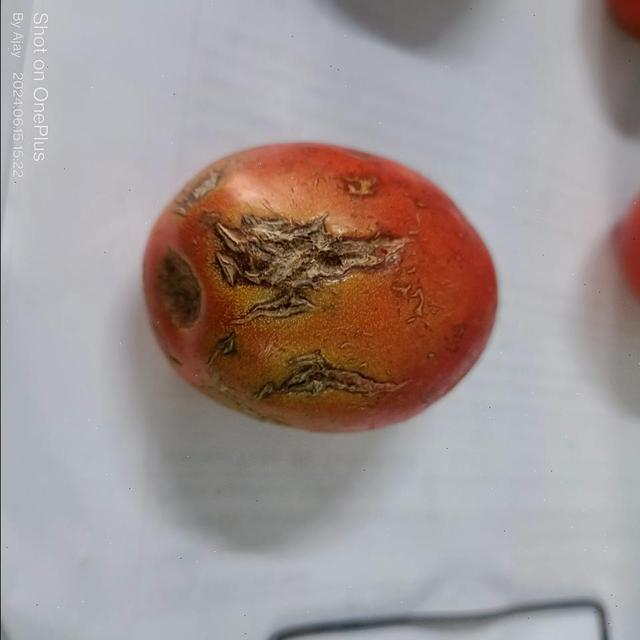Cracking Fruit: (221, 107, 263, 191)
